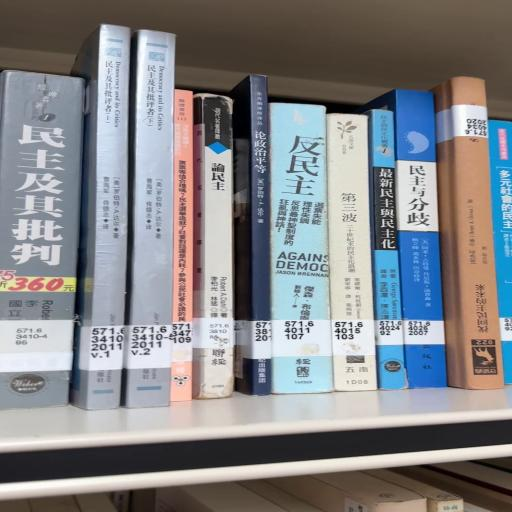reverse: (431, 78, 505, 391)
